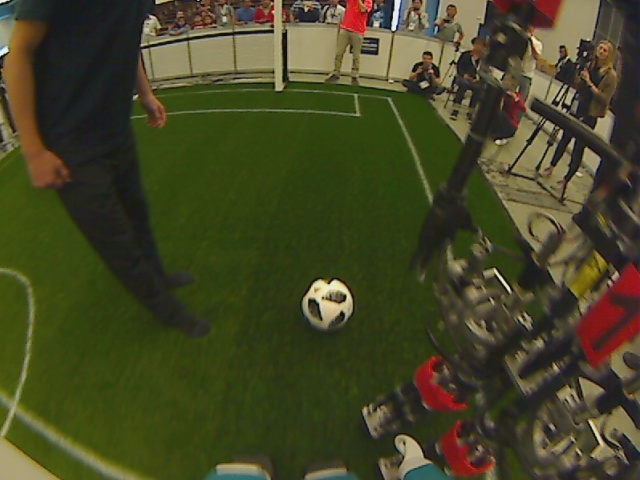ball: (301, 277, 355, 333)
